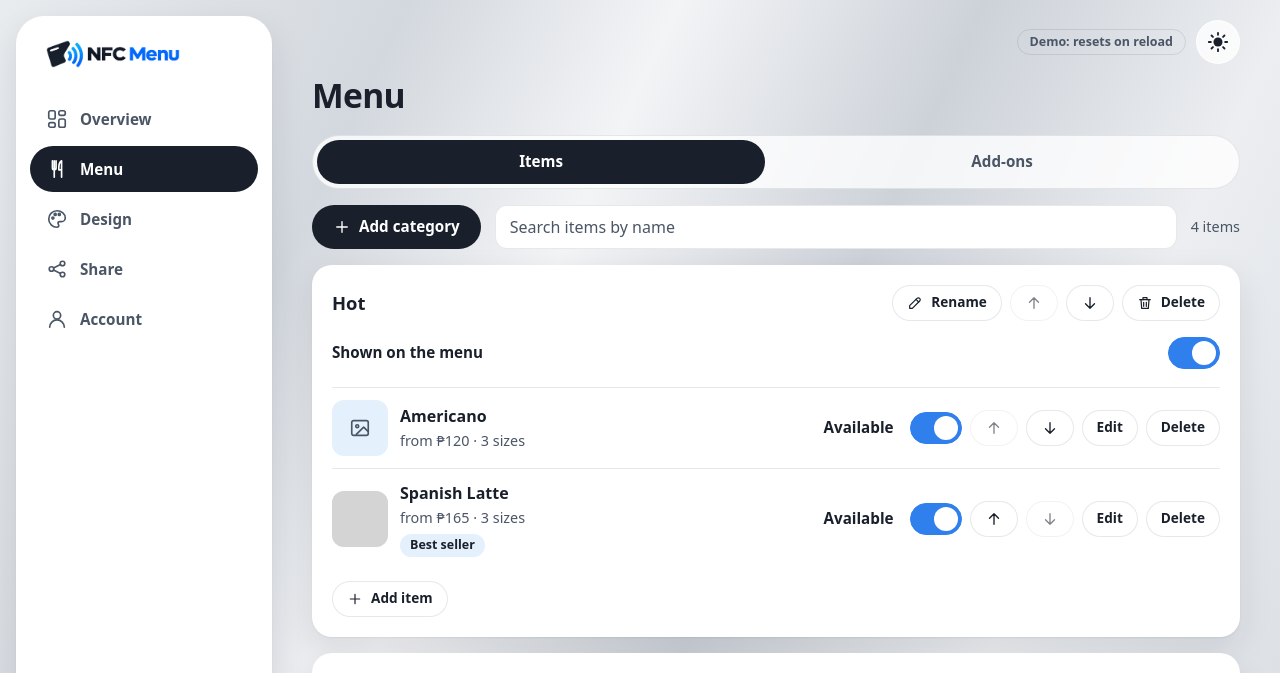
Test: When the owner repository fails: Menu › shows the failure of moving an item on its row and leaves the order as it was
Expected: the heading "Menu" is shown, [312,76,405,115]
Click the button named "Move Americano down" at (1050, 428), box [1026,410,1074,446]
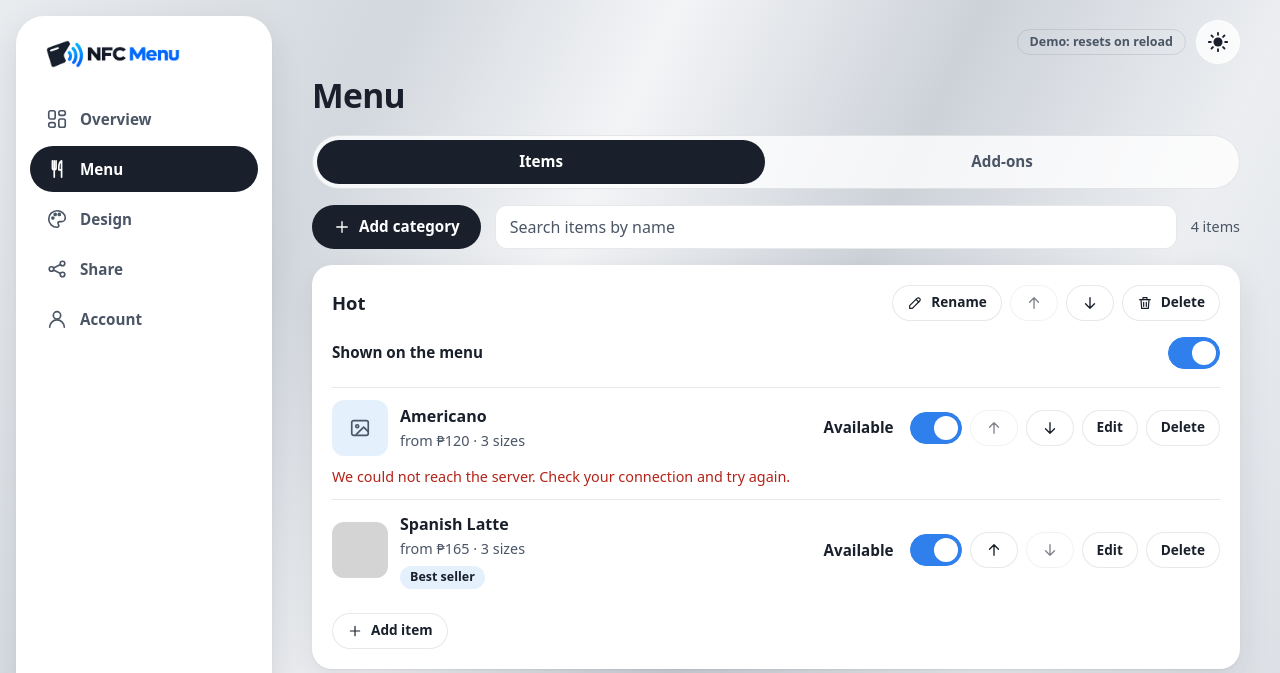
Result: the text "We could not reach the server. Check your connection and try again." is shown at [332,467,790,486]
